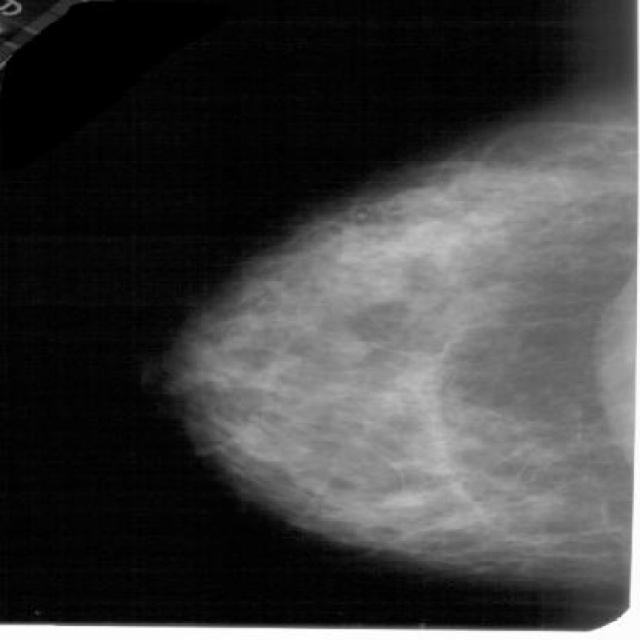tumor: (360, 284, 580, 578)
